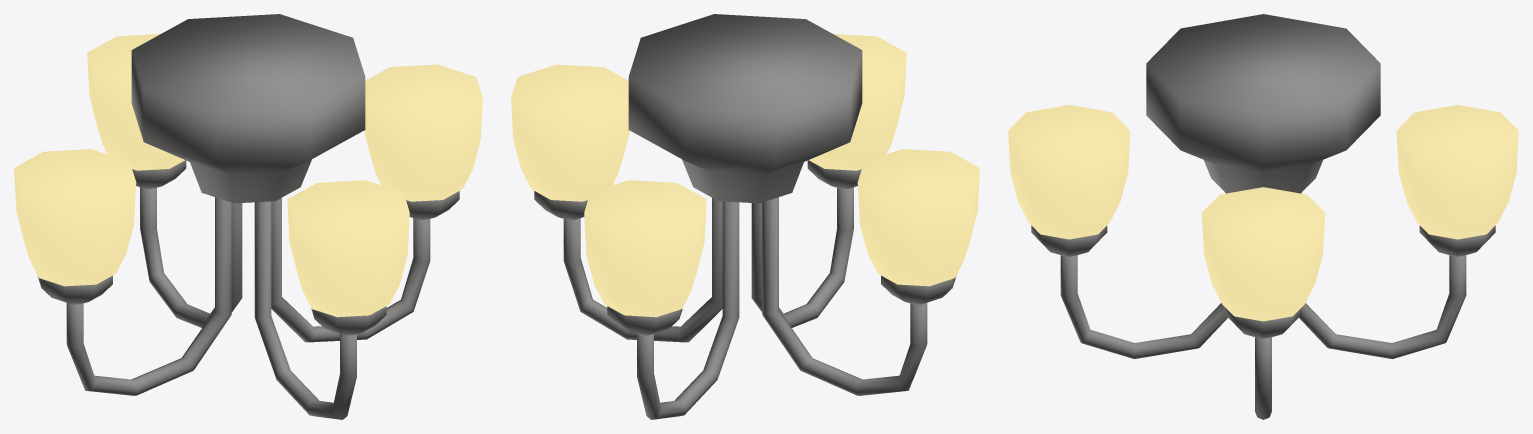
The model's file is Light_Chandelier.glb.
3 views of the same model, side by side, from view 1: azimuth 30°, elevation 25°; view 2: azimuth 150°, elevation 25°; view 3: azimuth 270°, elevation 25° (orthographic). The views are drawn at different scales.
Parts seen in each view (by area): view 1: Light_Chandelier; view 2: Light_Chandelier; view 3: Light_Chandelier.
Part boxes in pixels (left/top/right/bottom): Light_Chandelier: left=14, top=14, right=482, bottom=419; Light_Chandelier: left=511, top=14, right=979, bottom=419; Light_Chandelier: left=1008, top=14, right=1518, bottom=419.
Bounding box in the file's own units: 0.8131 × 0.5188 × 0.8131.
